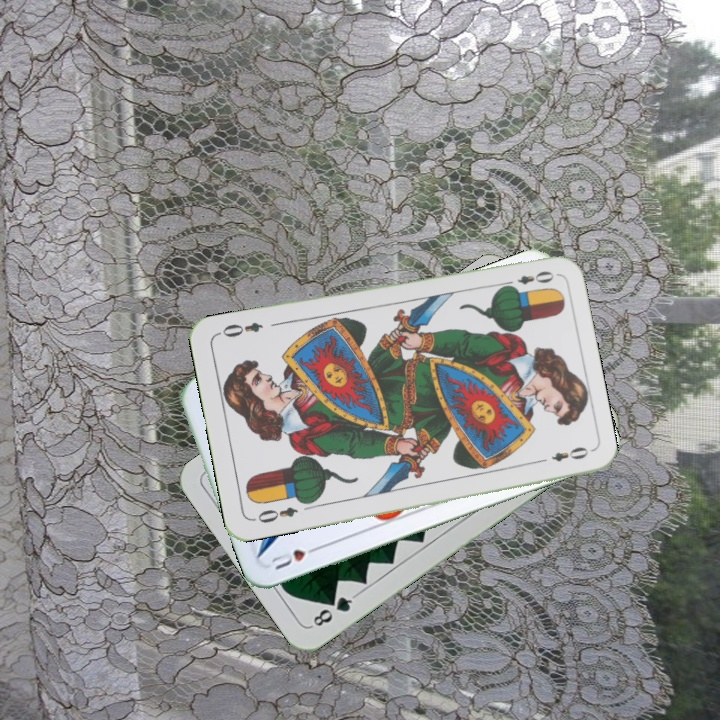EO: (499, 267, 557, 292), (249, 503, 300, 526)
G8: (307, 590, 359, 630)
HU: (266, 541, 324, 572)
